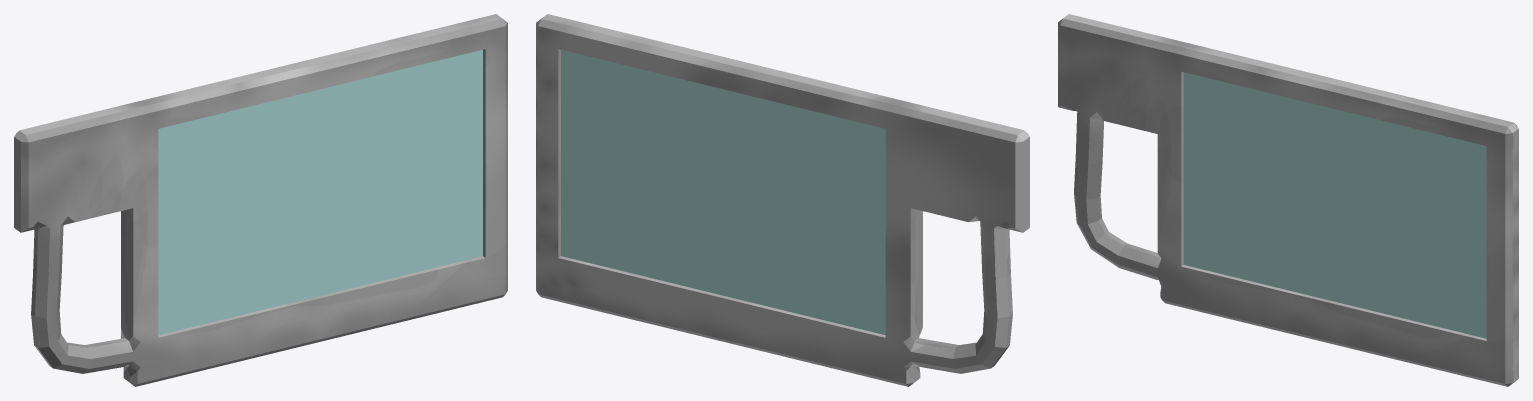
Rendered from Tableta.fbx.
3 renders of one model, left to right at view 1: azimuth 30°, elevation 25°; view 2: azimuth 150°, elevation 25°; view 3: azimuth 330°, elevation 25°, orthographic. The views are drawn at different scales.
Parts seen in each view (by area): view 1: Pantalla; view 2: Pantalla; view 3: Pantalla.
Boxes of the visible parts, x1,y1,x2,y2 form: Pantalla: (14, 14, 507, 386); Pantalla: (536, 14, 1029, 386); Pantalla: (1058, 14, 1518, 386).
Bounding box in the file's own units: 198 × 108 × 8.67.
2 materials, 1 textured.
